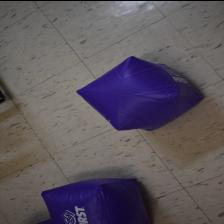cube: (75, 54, 205, 130), (41, 176, 152, 224), (31, 218, 52, 224)
